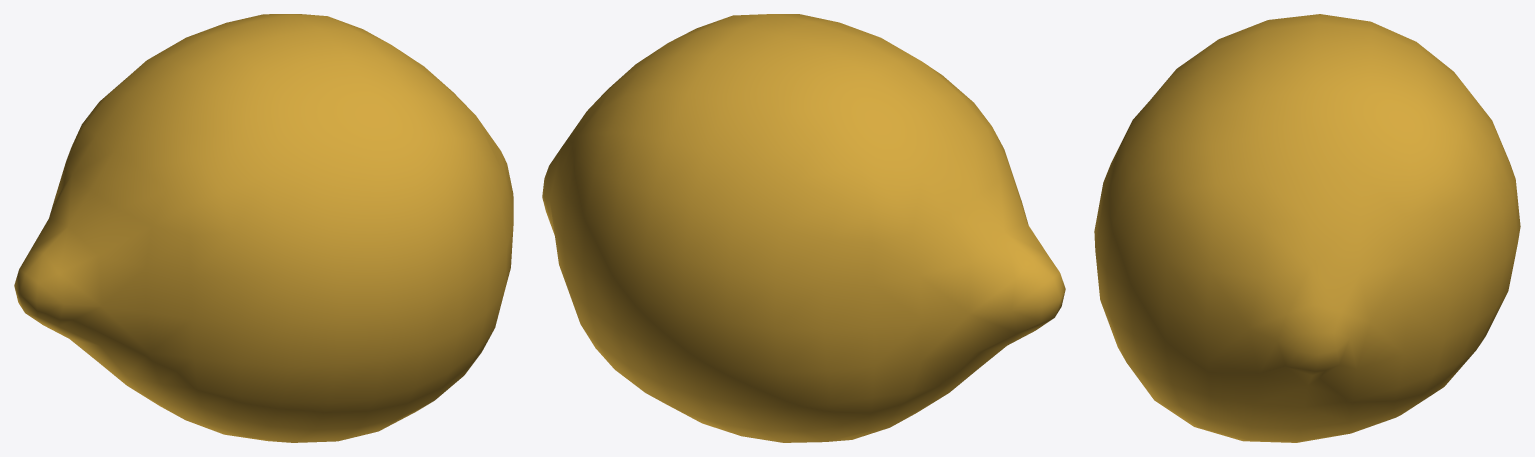
Rendered from Lemon_02.dae.
3 renders of one model, left to right at view 1: azimuth 30°, elevation 25°; view 2: azimuth 150°, elevation 25°; view 3: azimuth 270°, elevation 25°, orthographic. The views are drawn at different scales.
Visible parts, largest first — view 1: Lemon_02_LOD0; view 2: Lemon_02_LOD0; view 3: Lemon_02_LOD0.
Boxes of the visible parts, bbox=[...] form: Lemon_02_LOD0: bbox=[14, 14, 513, 442]; Lemon_02_LOD0: bbox=[542, 14, 1065, 442]; Lemon_02_LOD0: bbox=[1094, 14, 1520, 442].
Size of what is drawn, in the model's own units: 4.91 by 3.72 by 3.64.
